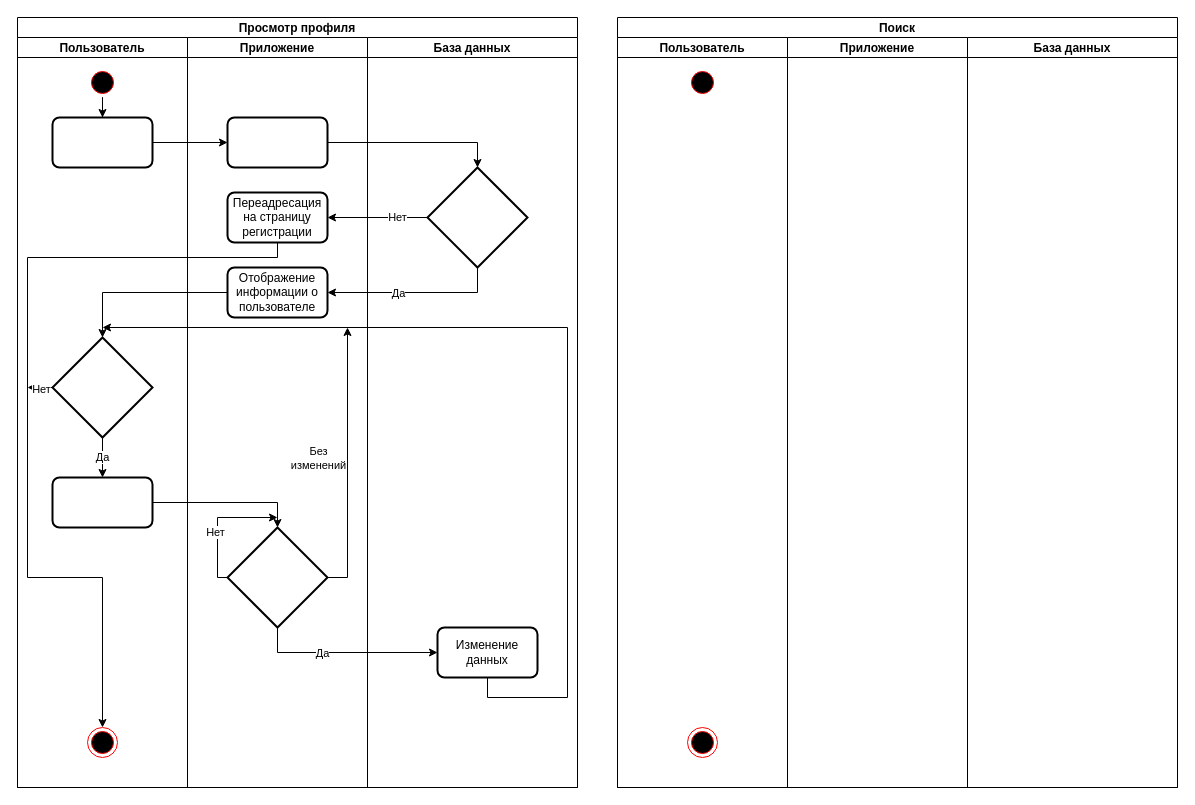
Some shapes in this 1195 by 805 pixel diagram are drawn without their labels. The shapes that lost their labels are listed below. From the top down, each one's centre as x and y in pixels, then its label:
[102,142]: Переход на страницу "Пользователь"
[277,142]: Получение данных из сессии
[477,217]: Пользователь найден
[102,387]: Нажал кнопку редактировать
[102,502]: Ввод данных
[277,577]: Все данные валидны
